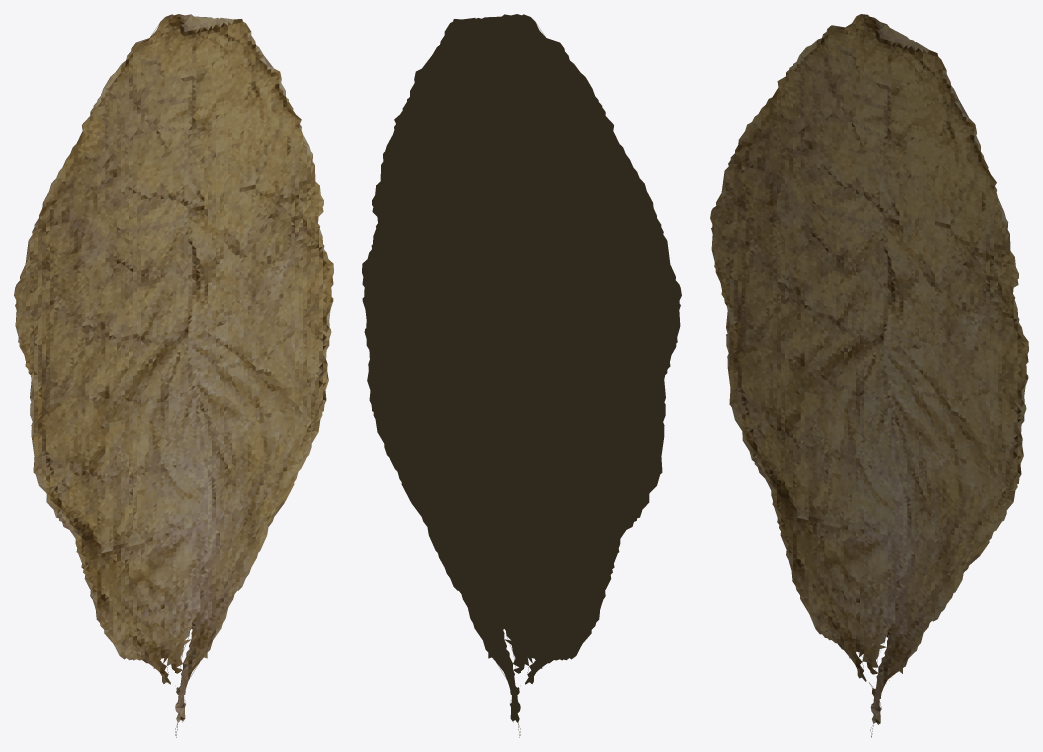
Rendered from 20260824_173344335_iOS.obj.
3 renders of one model, left to right at view 1: azimuth 30°, elevation 25°; view 2: azimuth 150°, elevation 25°; view 3: azimuth 330°, elevation 25°, orthographic.
Visible parts, largest first — view 1: 20260824_173344335_iOS; view 2: 20260824_173344335_iOS; view 3: 20260824_173344335_iOS.
Part boxes in pixels (x1,y1,x2,y2): 20260824_173344335_iOS: [14, 14, 333, 737]; 20260824_173344335_iOS: [362, 14, 681, 737]; 20260824_173344335_iOS: [710, 14, 1028, 737].
Bounding box in the file's own units: 242 × 525 × 0.3.
